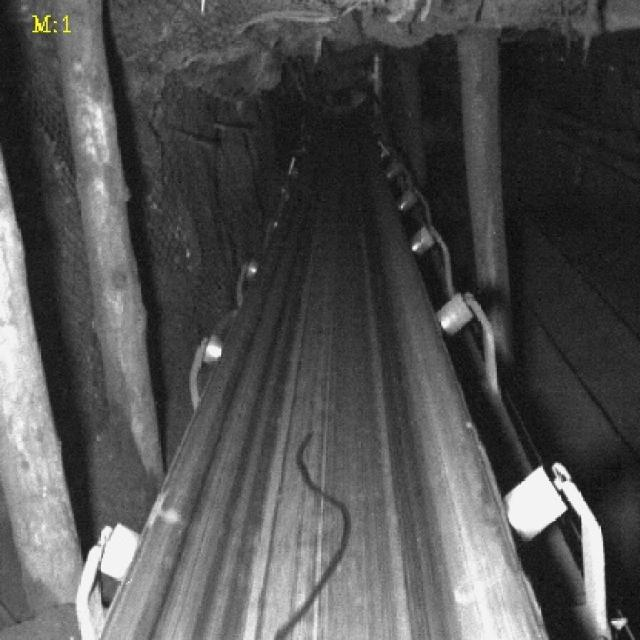bolt: (268, 431, 350, 640)
